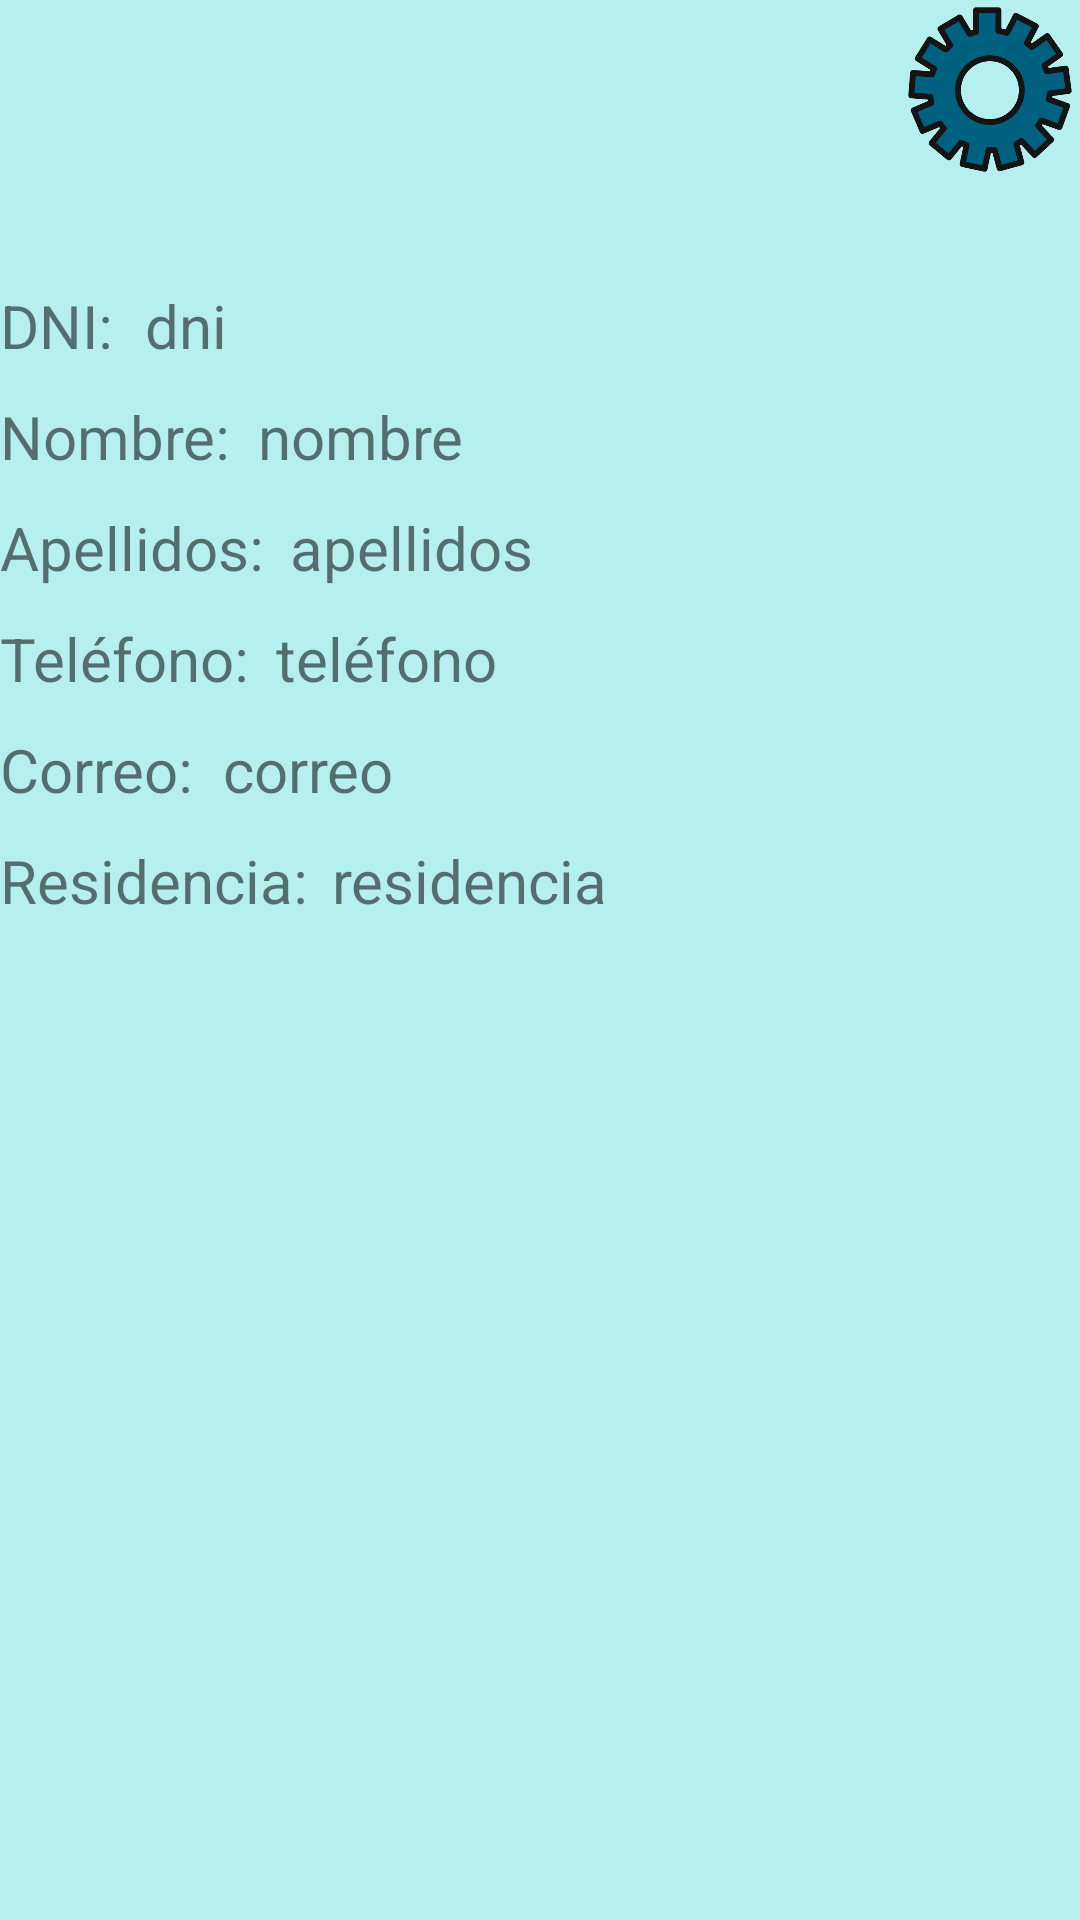

Screen size 1080*1920. Icon name, then its box in pixels as (x1, y1, x2, y2):
ajustes tienda mascotas: (908, 7, 1072, 172)
